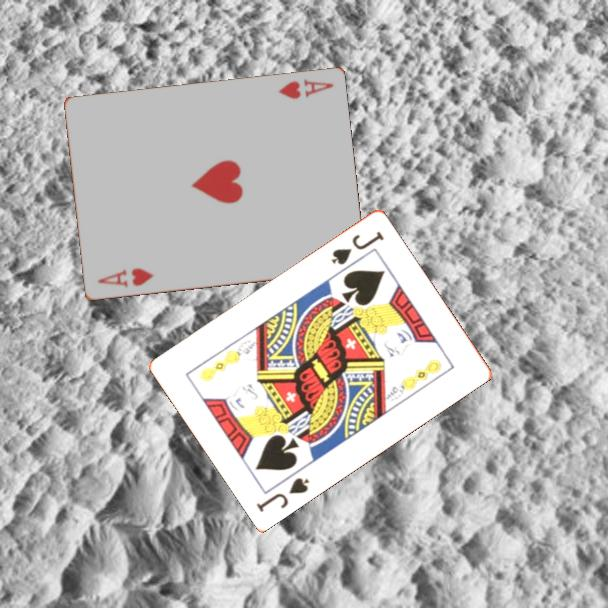h01: (94, 264, 156, 291), (274, 76, 336, 102)
s11: (253, 473, 312, 515), (327, 227, 387, 267)
